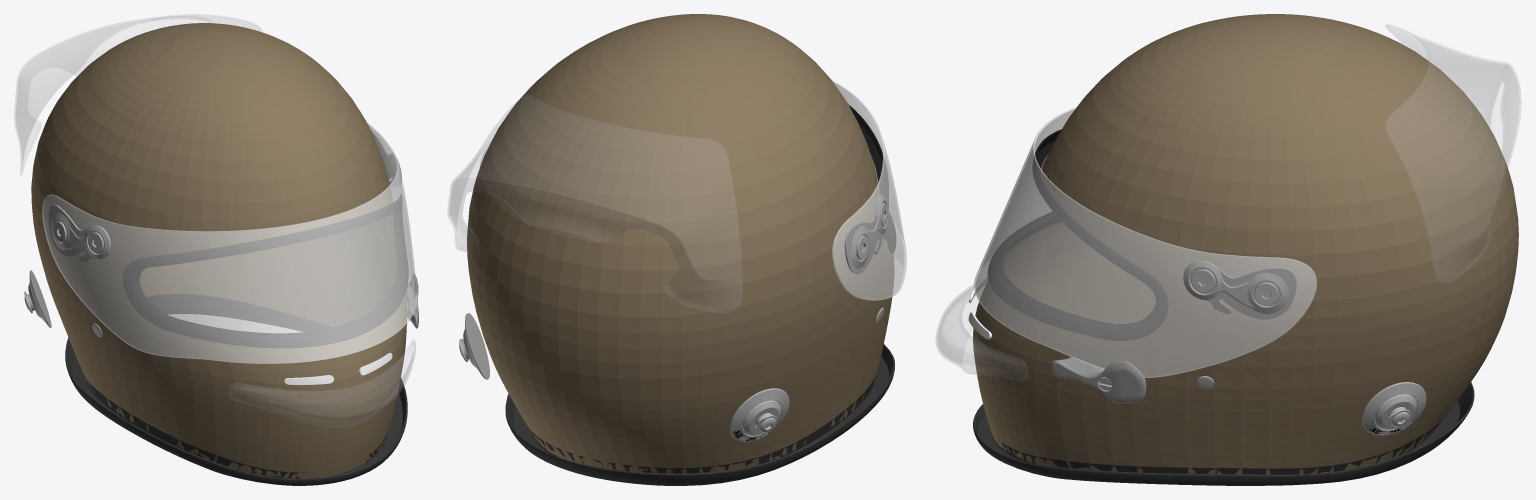
File: helmet.glb
The picture shows the model from 3 angles, left to right: view 1: azimuth 30°, elevation 25°; view 2: azimuth 150°, elevation 25°; view 3: azimuth 270°, elevation 25°; orthographic projection. The views are drawn at different scales.
Visible parts, largest first — view 1: Object_4, Object_19, Object_7, Object_13, Object_243, Object_23, Object_11, Object_17, Object_15, Object_9, Object_21; view 2: Object_4, Object_243, Object_7, Object_19, Object_17, Object_11, Object_13; view 3: Object_4, Object_19, Object_243, Object_7, Object_13, Object_21, Object_23, Object_17, Object_9.
Part boxes in pixels (bbox=[...]): Object_4: bbox=[31, 23, 406, 478]; Object_19: bbox=[42, 122, 417, 363]; Object_7: bbox=[65, 294, 407, 485]; Object_13: bbox=[123, 195, 408, 347]; Object_243: bbox=[14, 14, 261, 175]; Object_23: bbox=[228, 340, 415, 427]; Object_11: bbox=[48, 204, 110, 262]; Object_17: bbox=[24, 270, 102, 337]; Object_15: bbox=[284, 353, 392, 385]; Object_9: bbox=[406, 274, 418, 328]; Object_21: bbox=[371, 131, 401, 183]; Object_4: bbox=[467, 14, 894, 473]; Object_243: bbox=[448, 95, 742, 313]; Object_7: bbox=[505, 344, 894, 485]; Object_19: bbox=[479, 80, 906, 300]; Object_17: bbox=[459, 307, 883, 442]; Object_11: bbox=[844, 194, 888, 273]; Object_13: bbox=[849, 105, 895, 253]; Object_4: bbox=[973, 14, 1518, 474]; Object_19: bbox=[974, 106, 1316, 377]; Object_243: bbox=[1386, 25, 1520, 282]; Object_7: bbox=[973, 382, 1474, 485]; Object_13: bbox=[988, 129, 1167, 340]; Object_21: bbox=[1183, 260, 1296, 319]; Object_23: bbox=[935, 284, 1028, 381]; Object_17: bbox=[1099, 376, 1426, 435]; Object_9: bbox=[1051, 357, 1146, 403].
Bounding box in the file's own units: 0.0531 × 0.0544 × 0.0719.
